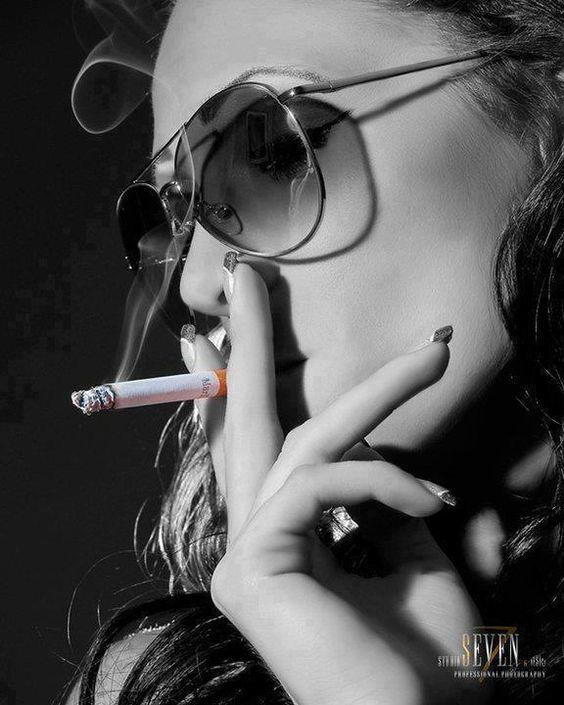cigarette: (71, 369, 226, 417)
